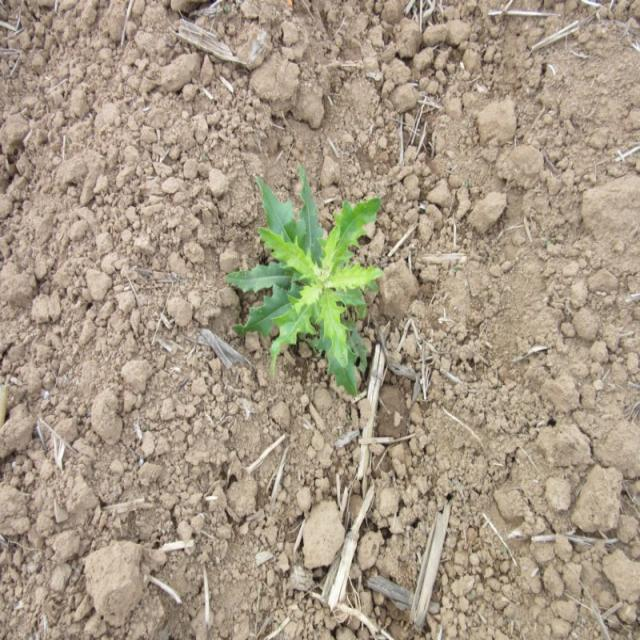cs: (224, 163, 387, 400)
